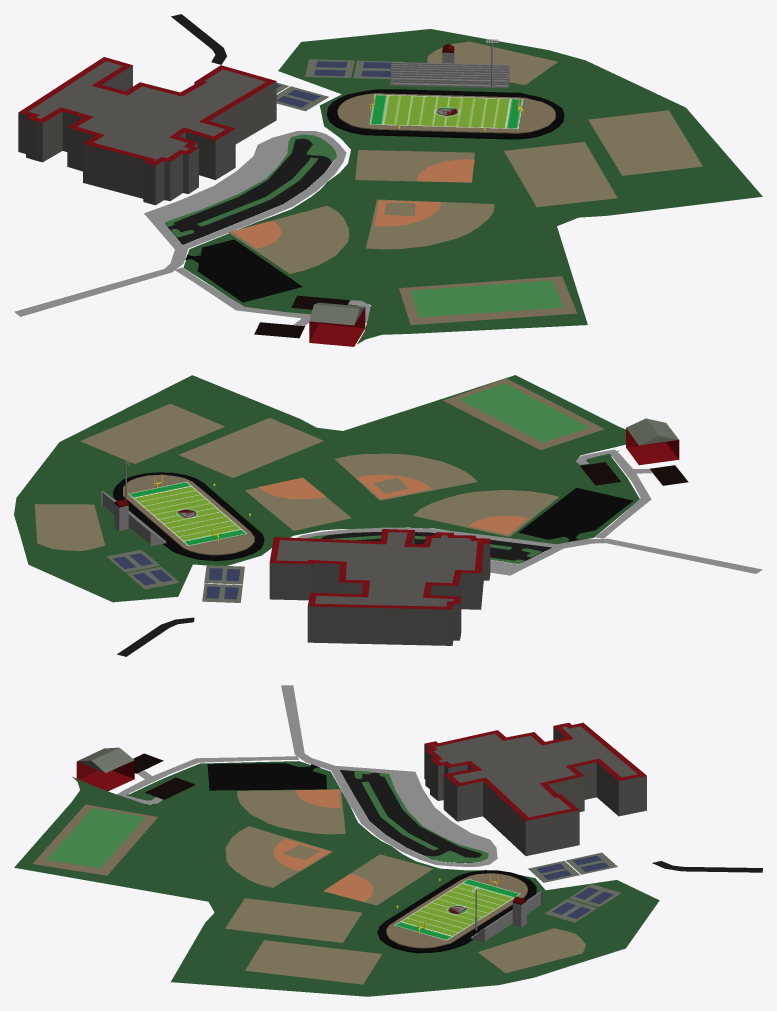
File: broadneck19.glb
3 renders of one model, top to bottom at view 1: azimuth 30°, elevation 25°; view 2: azimuth 150°, elevation 25°; view 3: azimuth 270°, elevation 25°, orthographic. The views are drawn at different scales.
Visible parts, largest first — view 1: Cylinder.002; view 2: Cylinder.002; view 3: Cylinder.002.
Boxes of the visible parts, box(x1,y1,x2,y2) form: Cylinder.002: box(14, 14, 762, 346); Cylinder.002: box(14, 375, 762, 656); Cylinder.002: box(14, 685, 762, 996).
Size of the model in its own units: 0.9244 by 0.0707 by 0.9405.
Materials: 21 (1 with a texture image).
